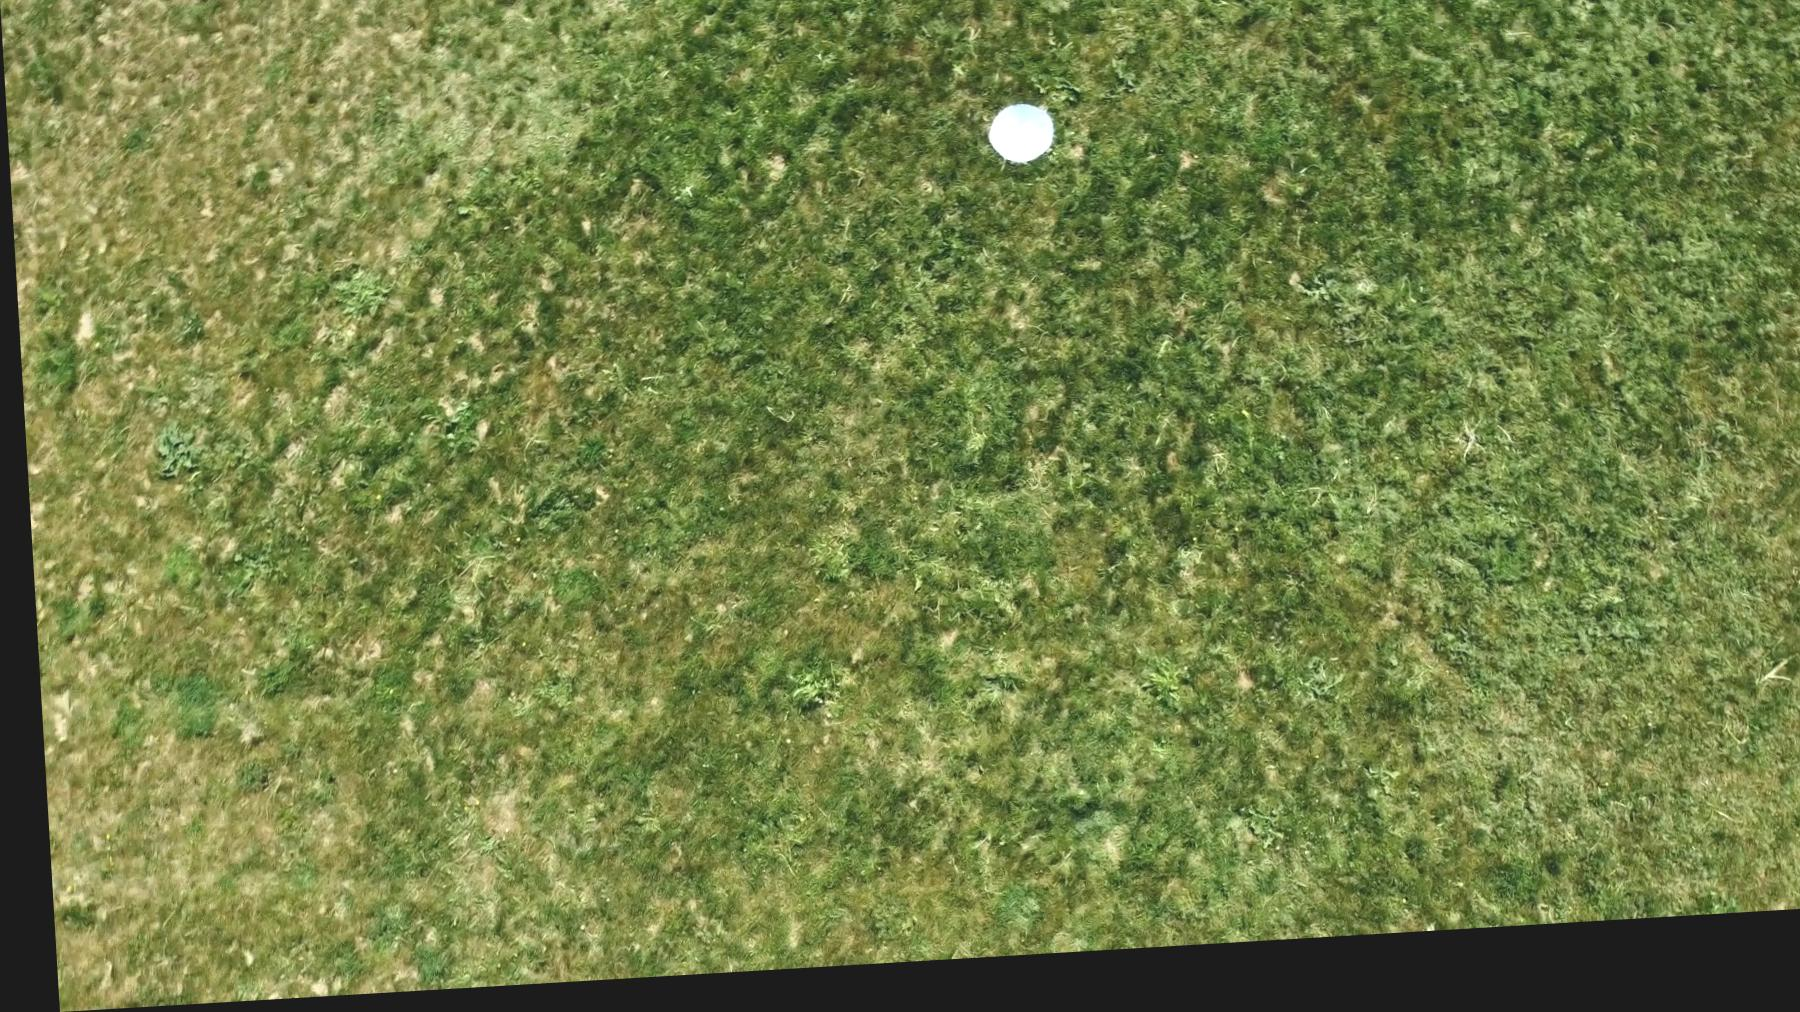Blue: (983, 112, 1056, 179)
